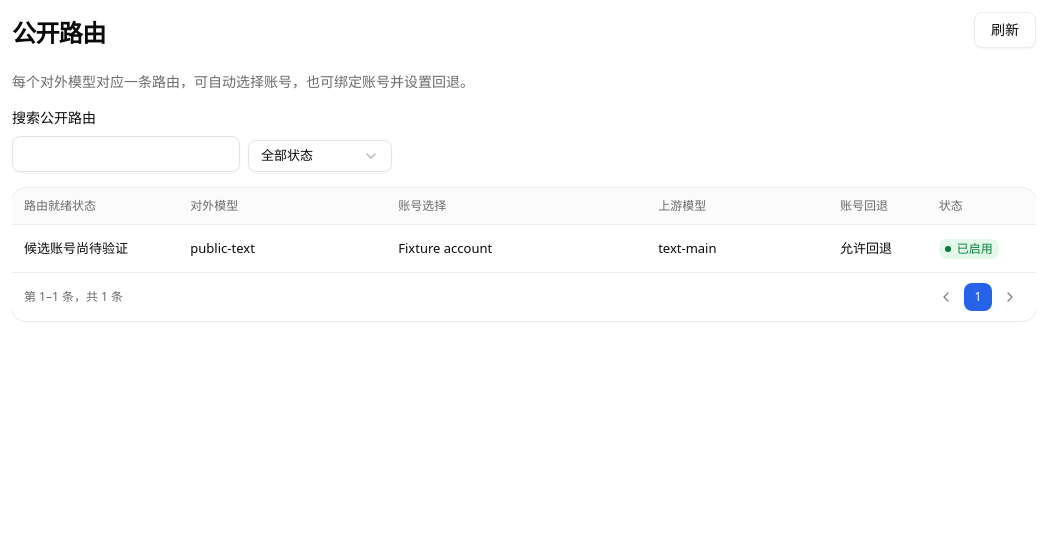
Test: shows public routing decisions but hides write actions for readers
This screenshot has width=1048, height=544.
Expected: the text "public-text" is shown, [178,224,386,272]
Expected: the text "Fixture account" is shown, [386,224,646,272]
In the field labelled "搜索公开路由": (126, 154) [12,136,240,172], type "missing"
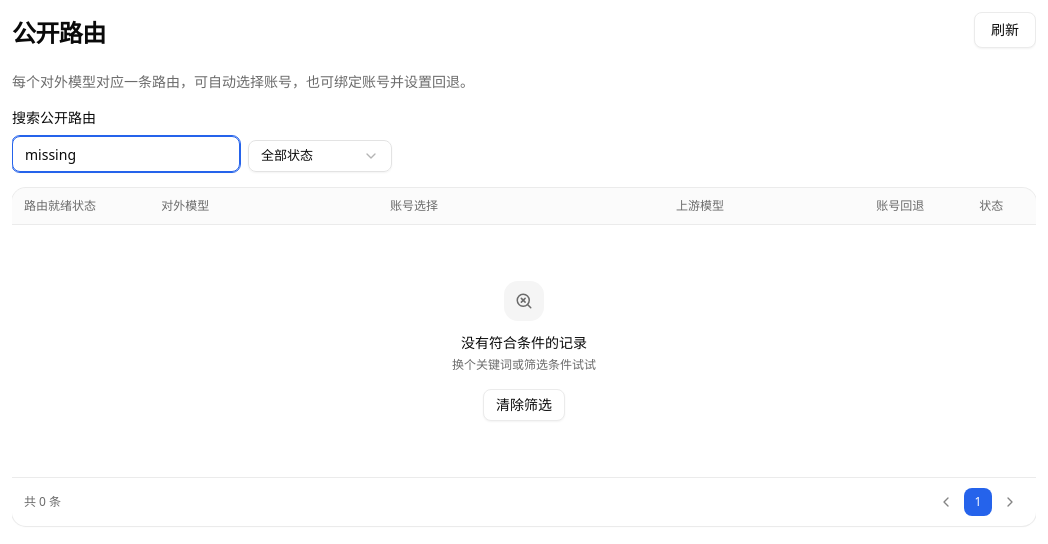
Result: the text "public-text" is gone
